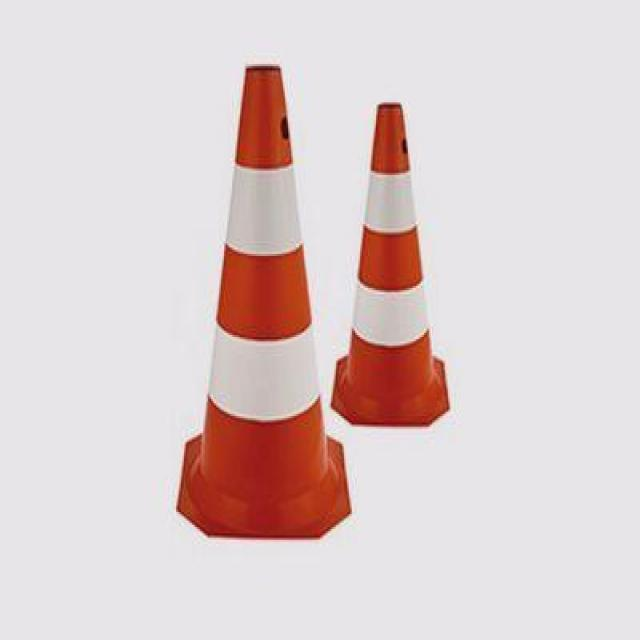cone: (173, 48, 351, 552), (332, 82, 476, 423)
